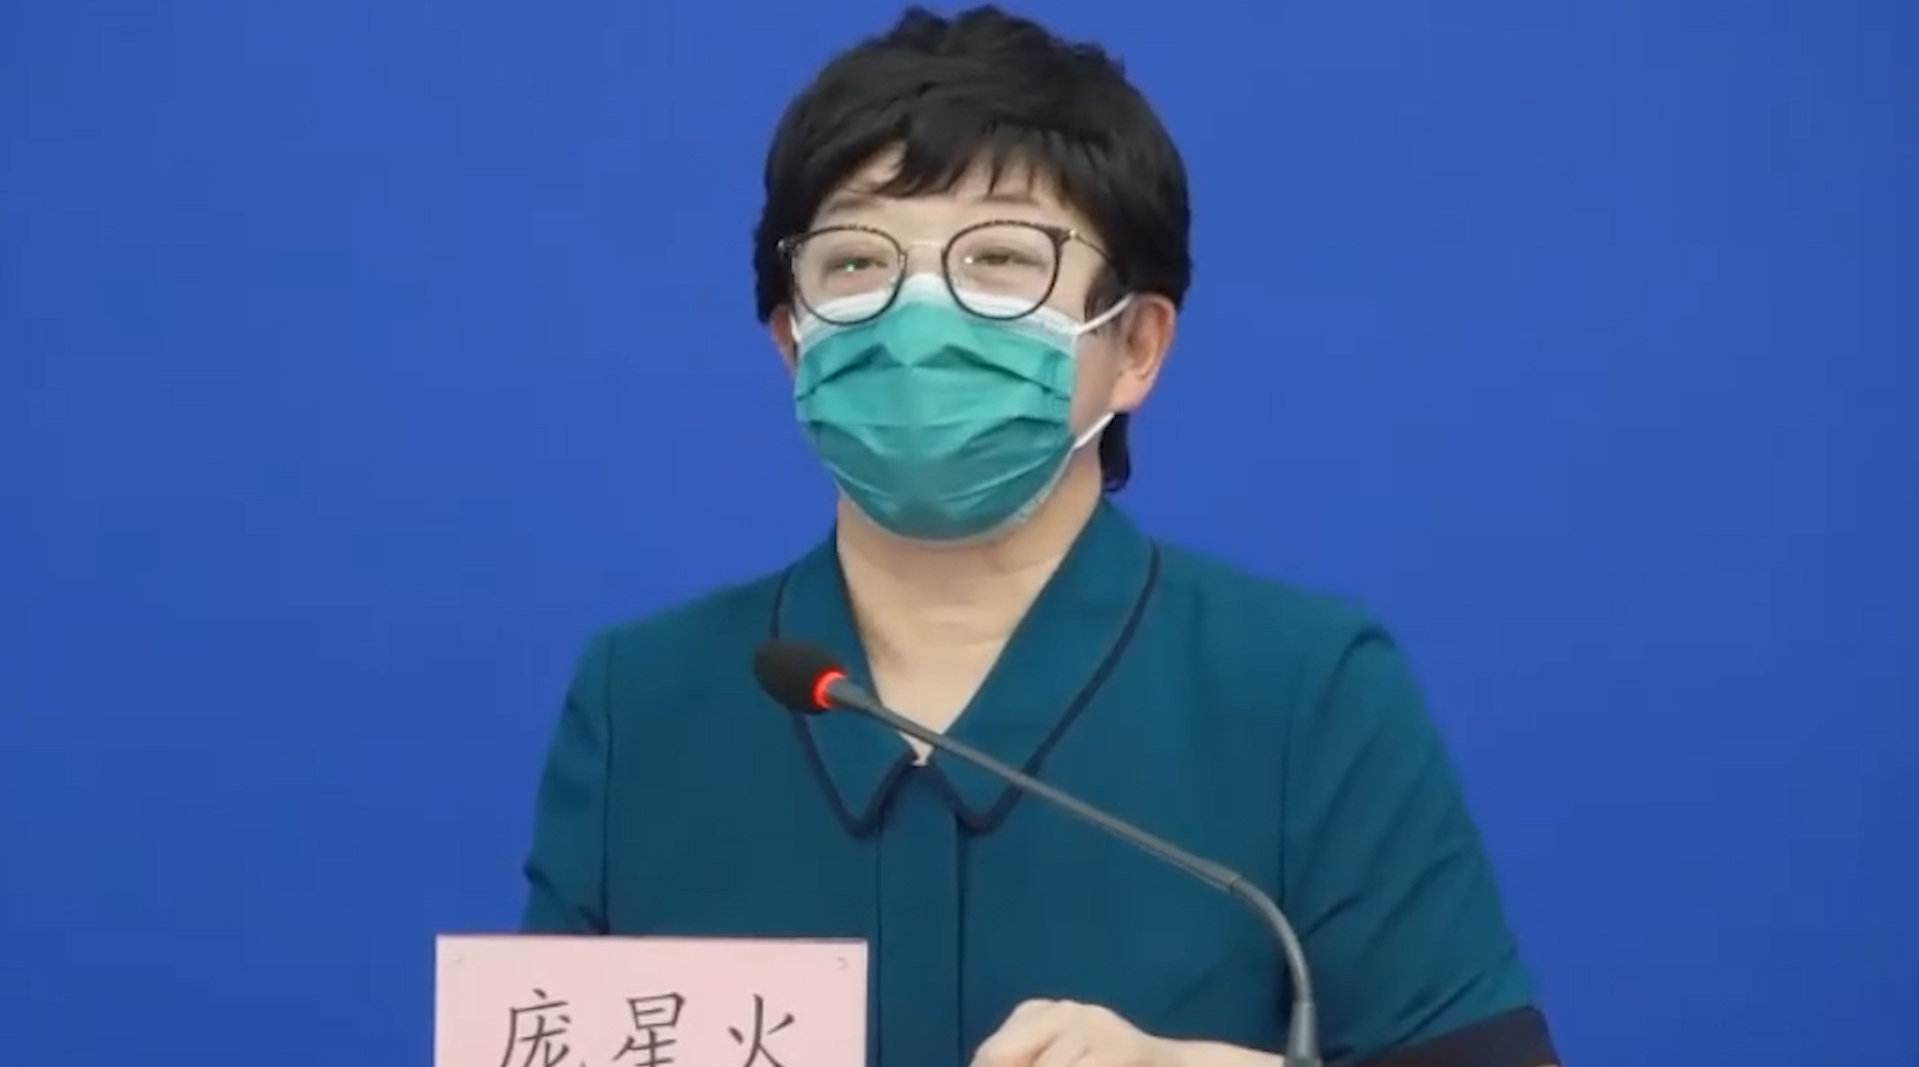mask: (768, 171, 1151, 539)
